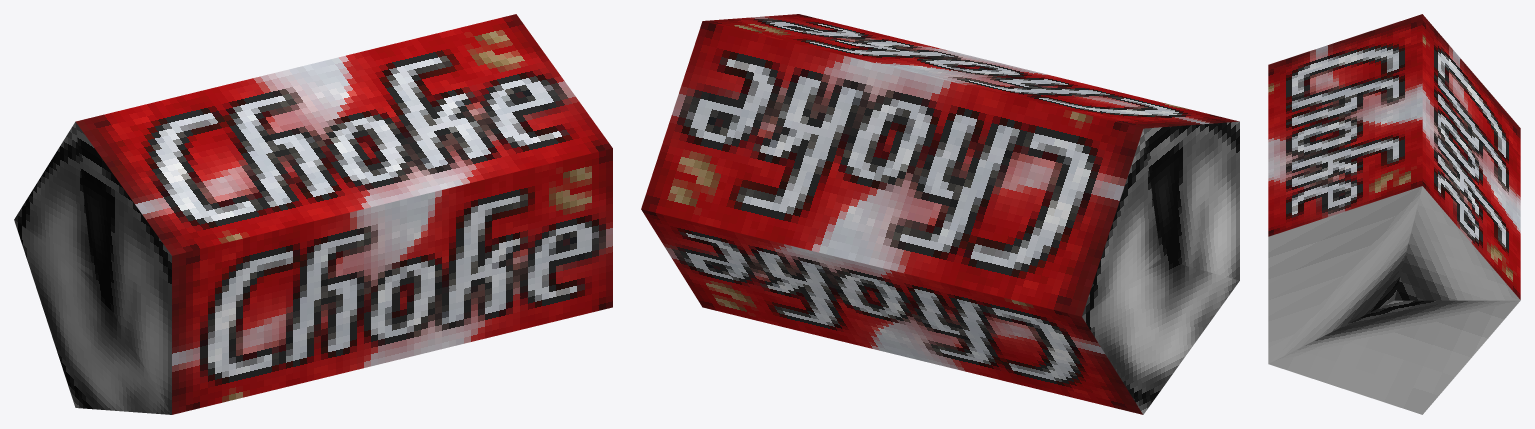
3 renders of one model, left to right at view 1: azimuth 30°, elevation 25°; view 2: azimuth 150°, elevation 25°; view 3: azimuth 270°, elevation 25°, orthographic. The views are drawn at different scales.
Parts seen in each view (by area): view 1: prim076-Cylinder01; view 2: prim076-Cylinder01; view 3: prim076-Cylinder01.
Part boxes in pixels (x1,y1,x2,y2): prim076-Cylinder01: (14,14,612,414); prim076-Cylinder01: (641,14,1239,414); prim076-Cylinder01: (1268,14,1520,414).
Bounding box in the file's own units: 29 × 18 × 18.
Materials: 2 (2 with a texture image).
